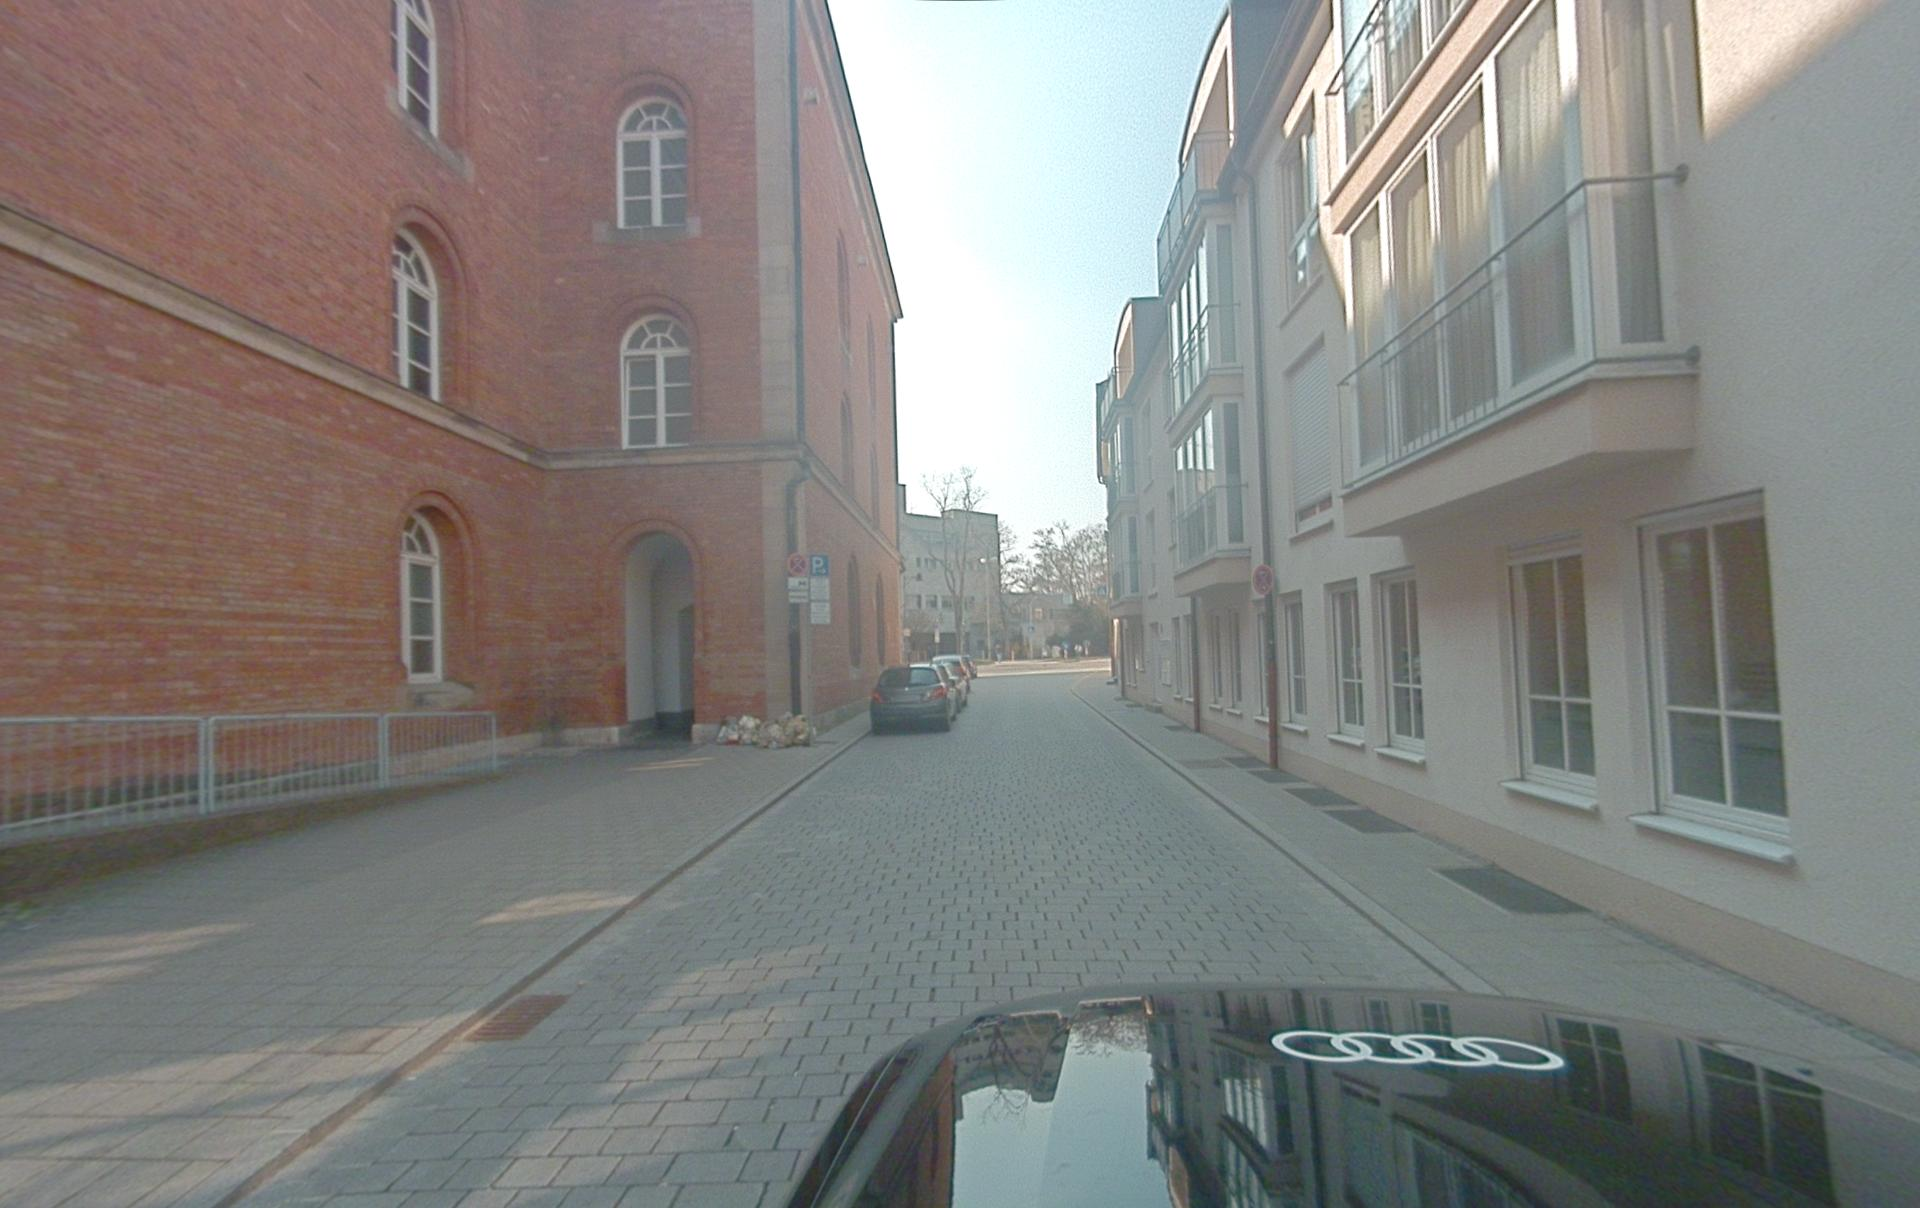car: (780, 981, 1919, 1207), (869, 663, 956, 734), (930, 660, 968, 711)
